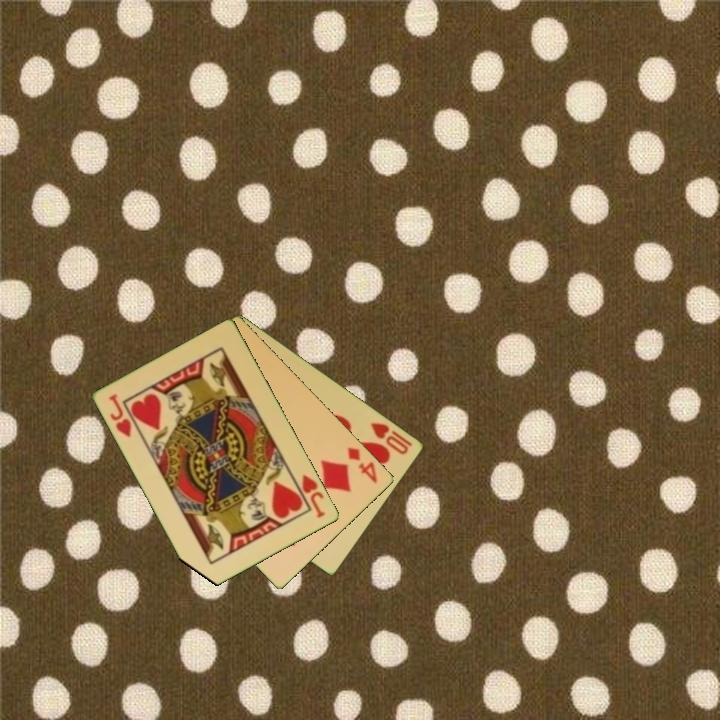10h: (368, 419, 412, 458)
4d: (344, 443, 381, 486)
Jh: (290, 471, 328, 521), (106, 390, 135, 440)
